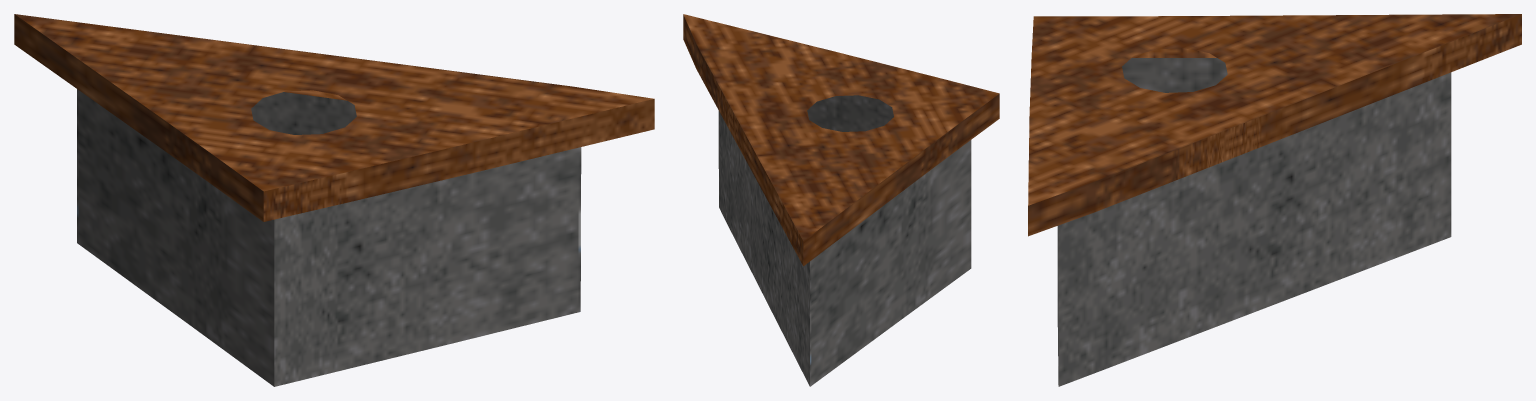
The model's file is SM_Dungeon_Toilet_Corner.fbx.
3 views of the same model, side by side, from view 1: azimuth 30°, elevation 25°; view 2: azimuth 150°, elevation 25°; view 3: azimuth 270°, elevation 25° (orthographic). The views are drawn at different scales.
Parts seen in each view (by area): view 1: SM_Dungeon_Toilet.001; view 2: SM_Dungeon_Toilet.001; view 3: SM_Dungeon_Toilet.001.
Part boxes in pixels (x1,y1,x2,y2): SM_Dungeon_Toilet.001: (14, 14, 654, 386); SM_Dungeon_Toilet.001: (683, 14, 999, 386); SM_Dungeon_Toilet.001: (1028, 14, 1521, 386).
Size of the model in its own units: 129 by 65.85 by 140.
